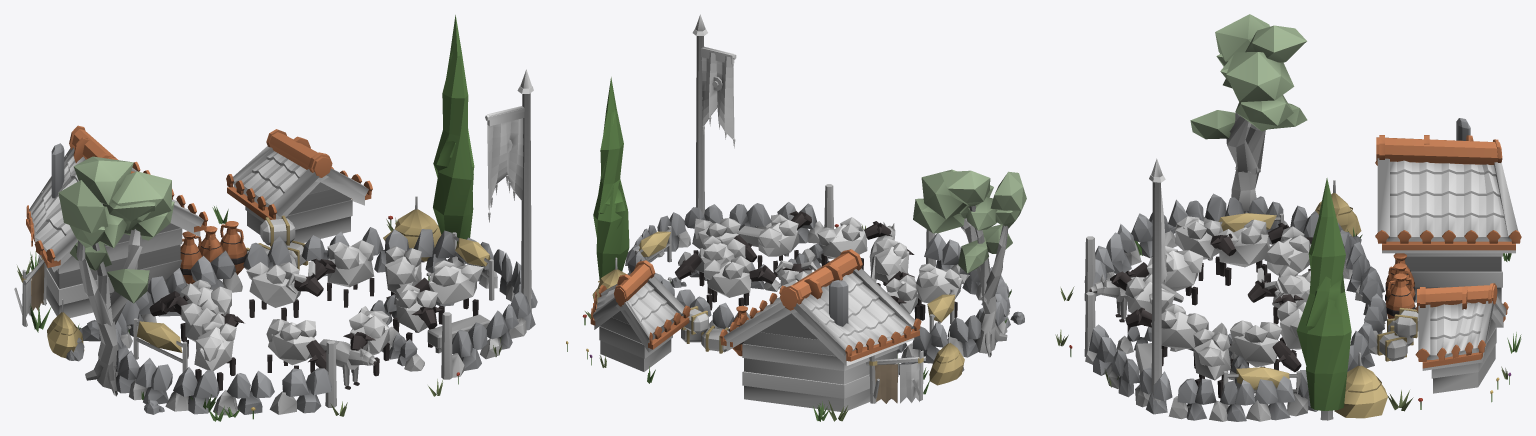
Rendered from sheepfold-l3.glb.
The picture shows the model from 3 angles, left to right: view 1: azimuth 30°, elevation 25°; view 2: azimuth 150°, elevation 25°; view 3: azimuth 270°, elevation 25°; orthographic projection. The views are drawn at different scales.
Visible parts, largest first — view 1: sheepfold-l3; view 2: sheepfold-l3; view 3: sheepfold-l3.
Part boxes in pixels (left/top/right/bottom): sheepfold-l3: left=14, top=15, right=537, bottom=421; sheepfold-l3: left=566, top=14, right=1026, bottom=421; sheepfold-l3: left=1055, top=14, right=1521, bottom=421.
Bounding box in the file's own units: 1.59 × 0.8845 × 1.47.
